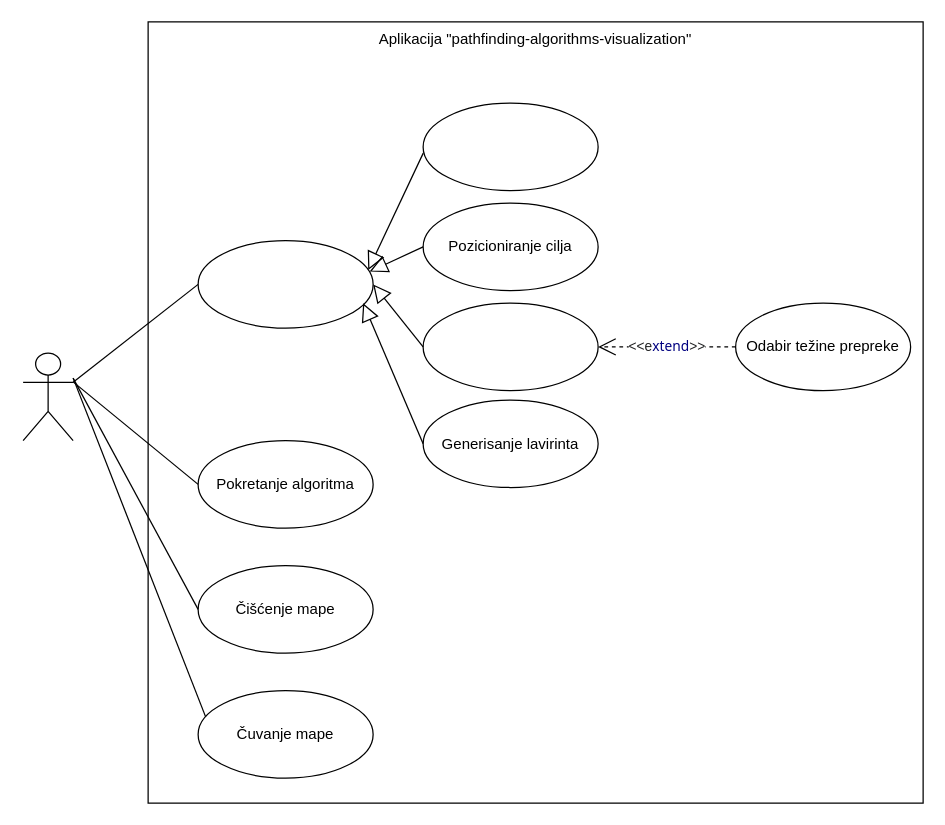
Image size: 945x825. Some labels were removed from this diagram. The shapes that lost their labels are listed below. From the top down, each one's box as (x1, y1, x2, y2) in pixels, then its label:
(422, 102, 598, 191): Pozicioniranje starta
(197, 239, 373, 328): Podešavanja na mapi
(422, 302, 598, 391): Pozicioniranje prepreke
(22, 352, 73, 441): Korisnik
